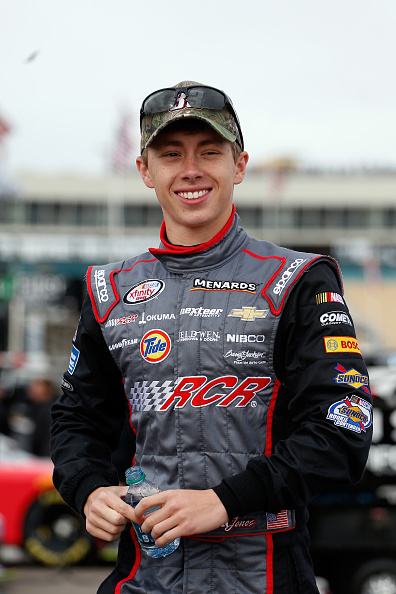em pe: (41, 69, 360, 594)
